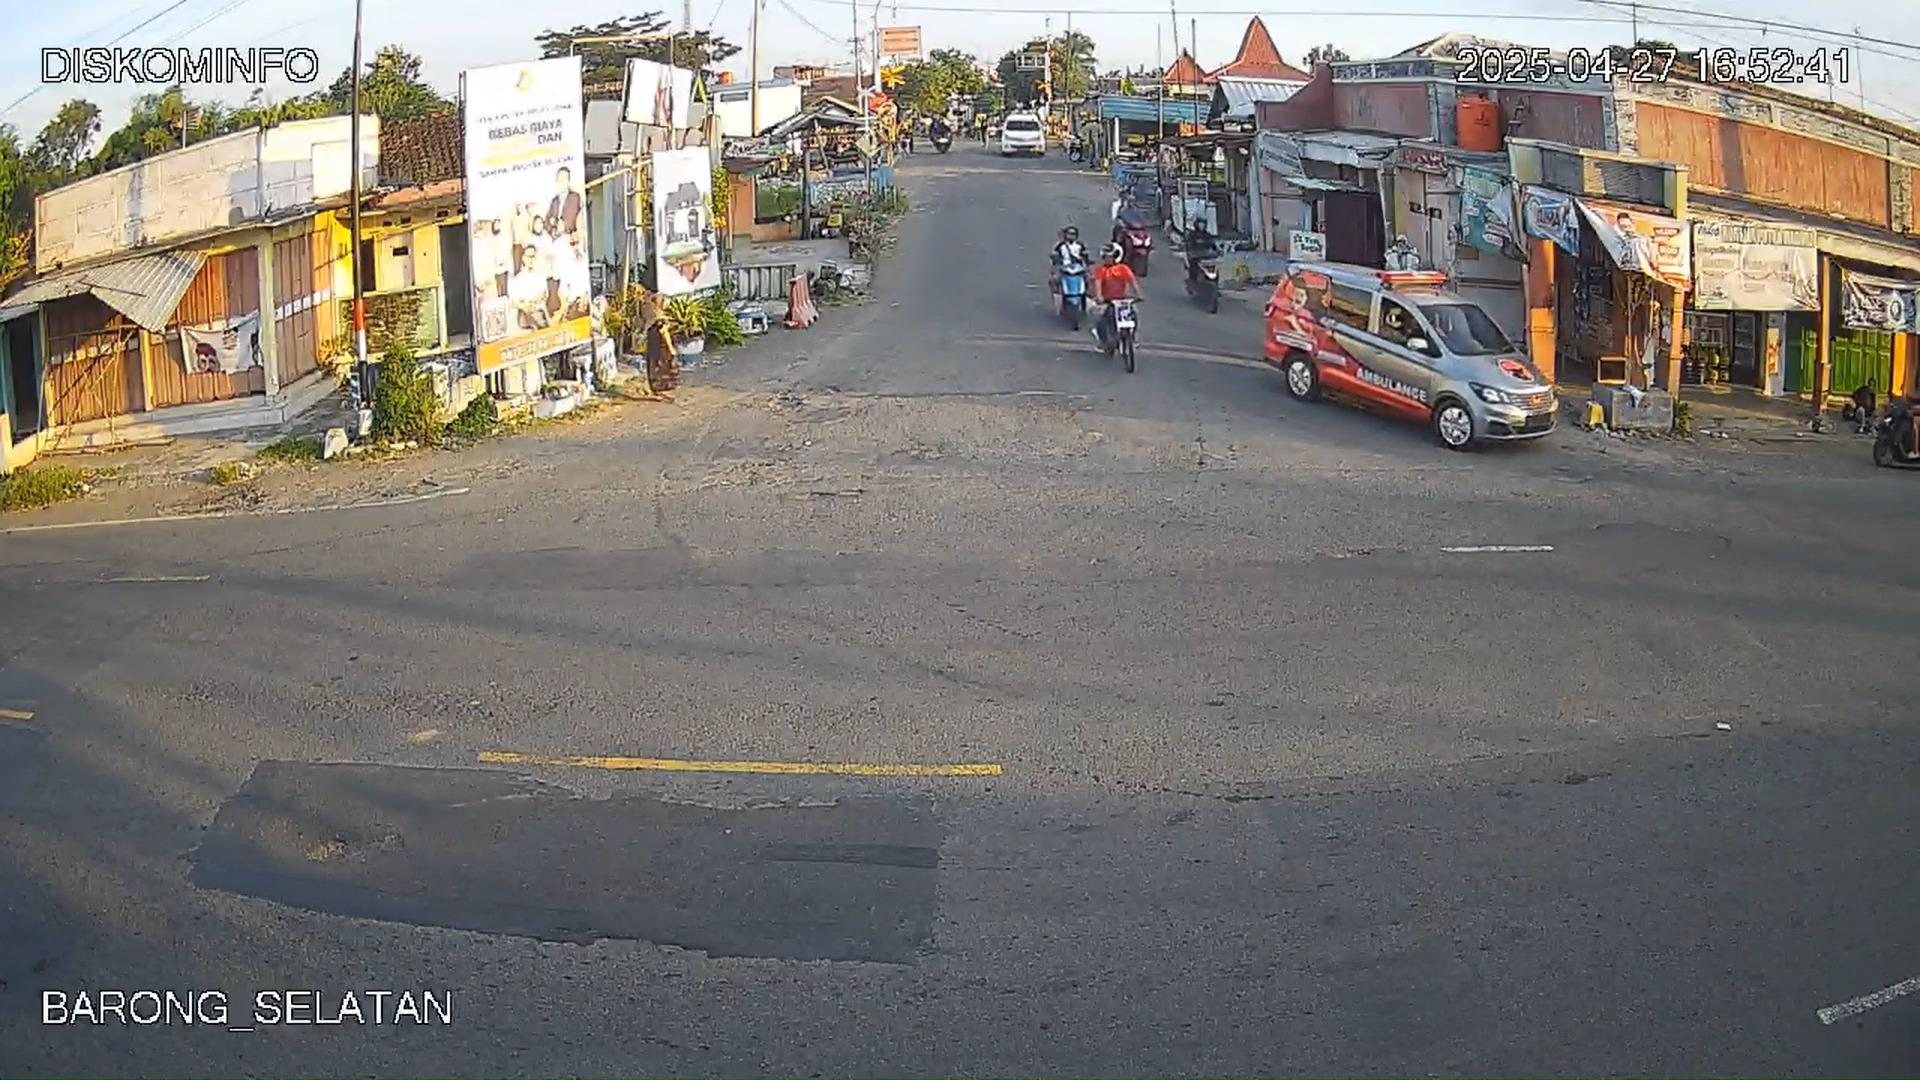Motor: (1092, 241, 1145, 360)
mobil: (1275, 253, 1556, 481)
